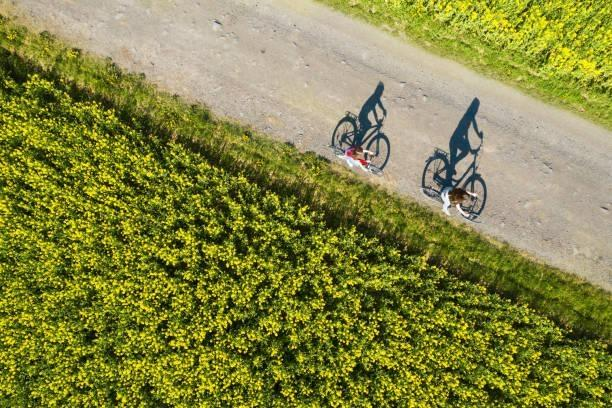Motorcycle: (424, 180, 490, 221), (327, 146, 390, 180)
